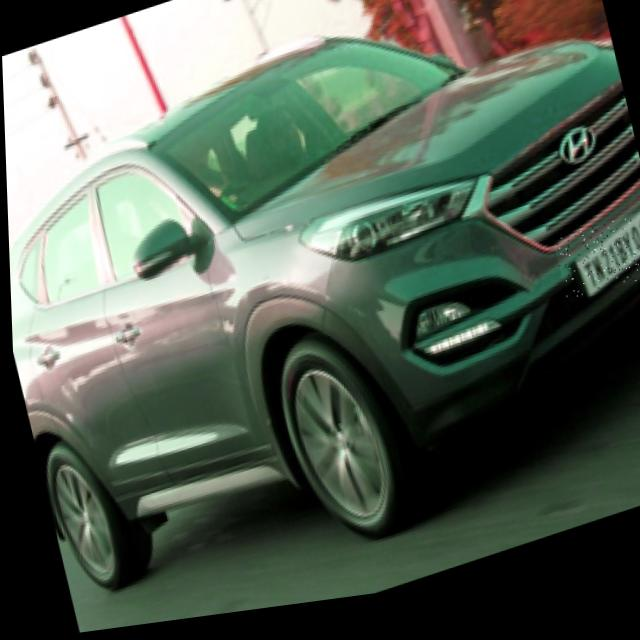license_plate: (550, 226, 640, 320)
